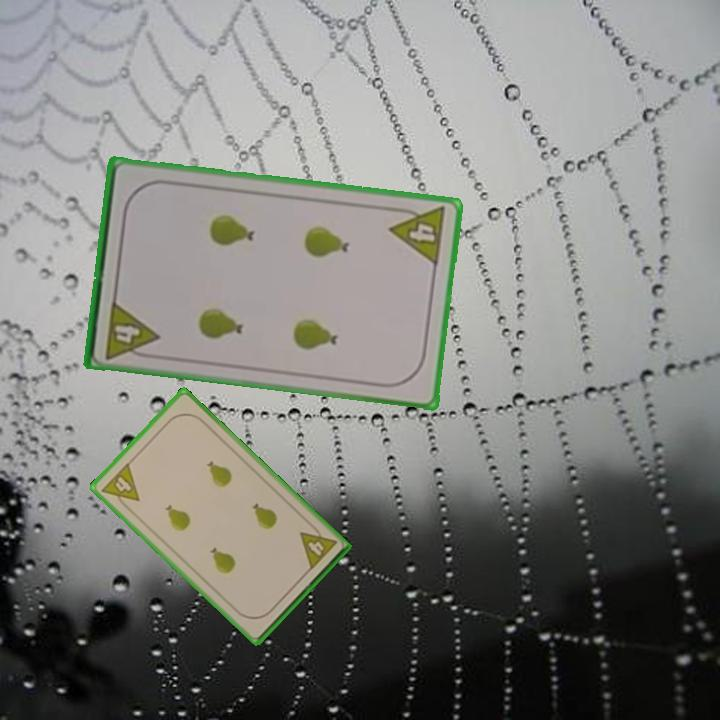4p: (386, 203, 449, 269), (101, 297, 161, 362), (98, 459, 142, 514), (296, 520, 340, 573)
